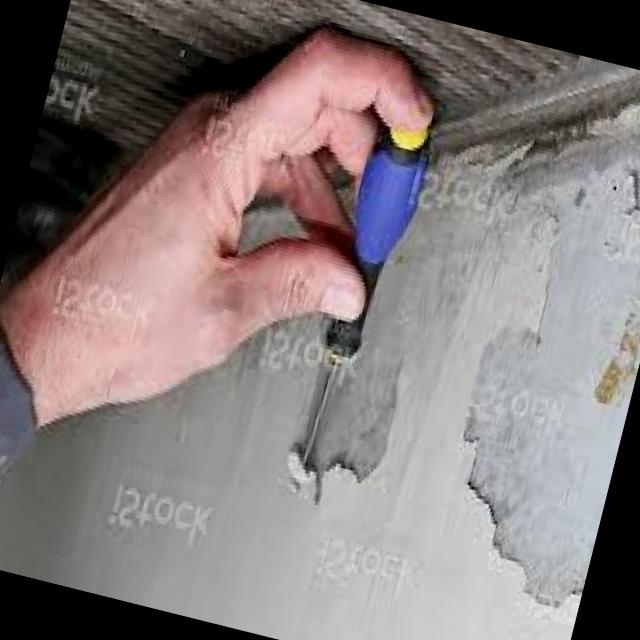screwdriver: (306, 116, 430, 452)
